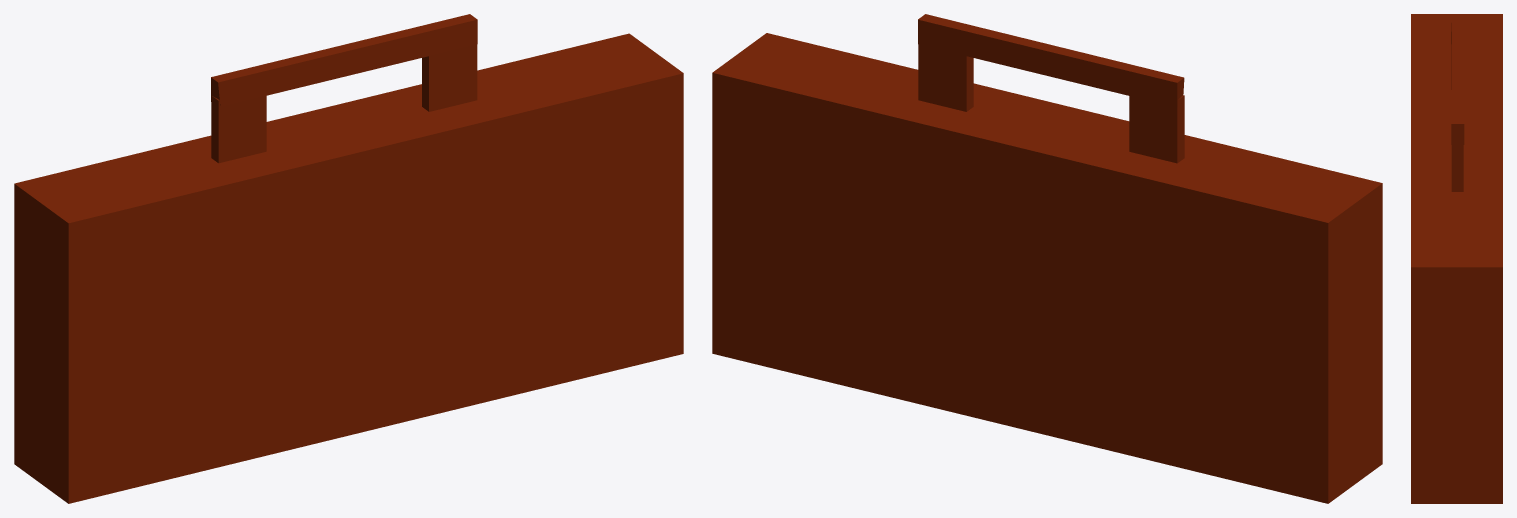
File: BriefCase.fbx
The picture shows the model from 3 angles, left to right: view 1: azimuth 30°, elevation 25°; view 2: azimuth 150°, elevation 25°; view 3: azimuth 270°, elevation 25°; orthographic projection. The views are drawn at different scales.
Parts seen in each view (by area): view 1: BriefCase; view 2: BriefCase; view 3: BriefCase.
Part boxes in pixels (bbox=[...]): BriefCase: bbox=[14, 14, 683, 503]; BriefCase: bbox=[712, 14, 1382, 503]; BriefCase: bbox=[1411, 14, 1502, 503].
Size of the model in its own units: 148 by 83.12 by 22.67.
